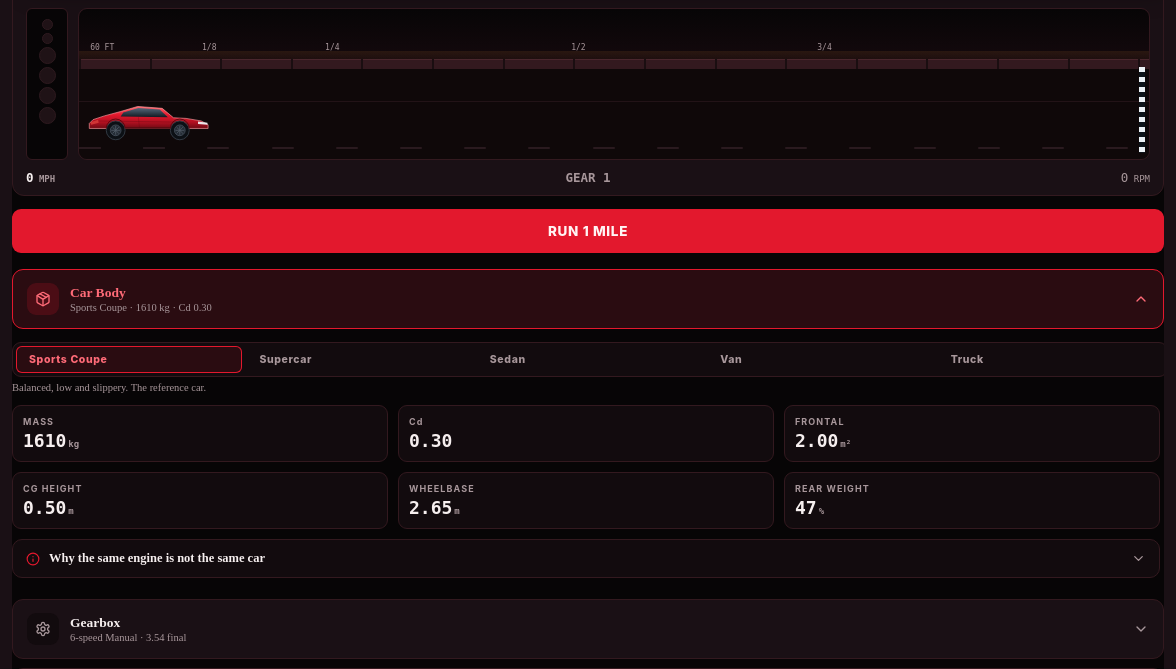
Test case: the car › writes body changes to the store as a whole car, hardware figures included
(page scrolled)
Click the button "Truck" at (1051,359), box [938, 346, 1164, 373]
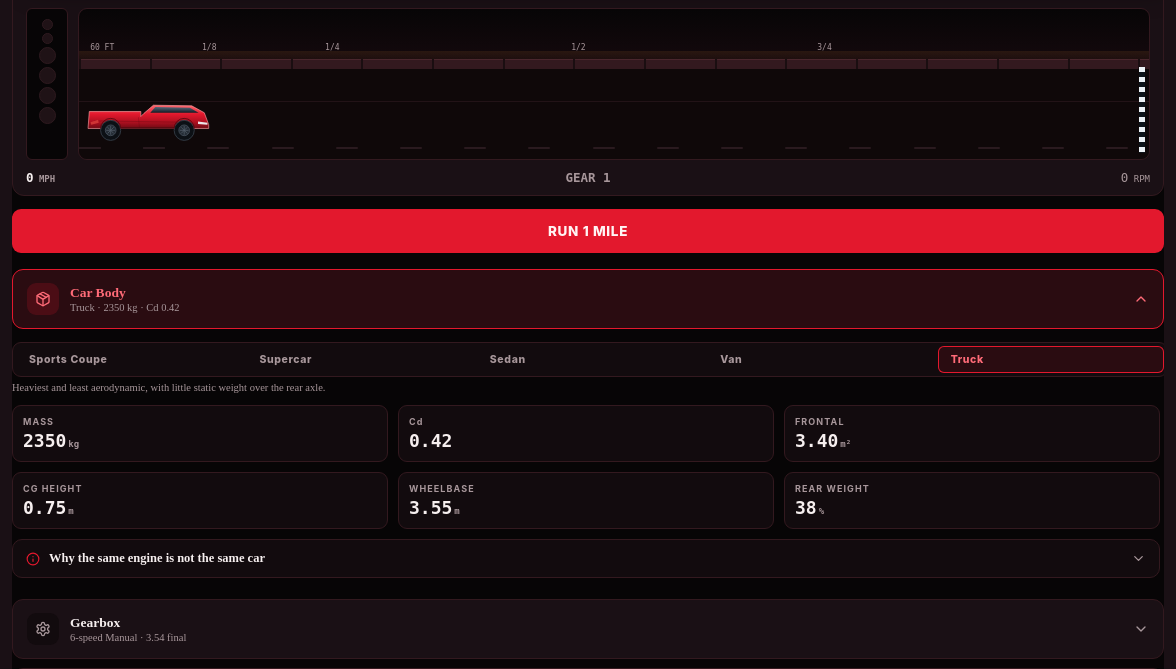
Expected: the text "2350" is shown, [23, 430, 66, 451]
Expected: the text "0.42" is shown, [409, 430, 452, 451]
